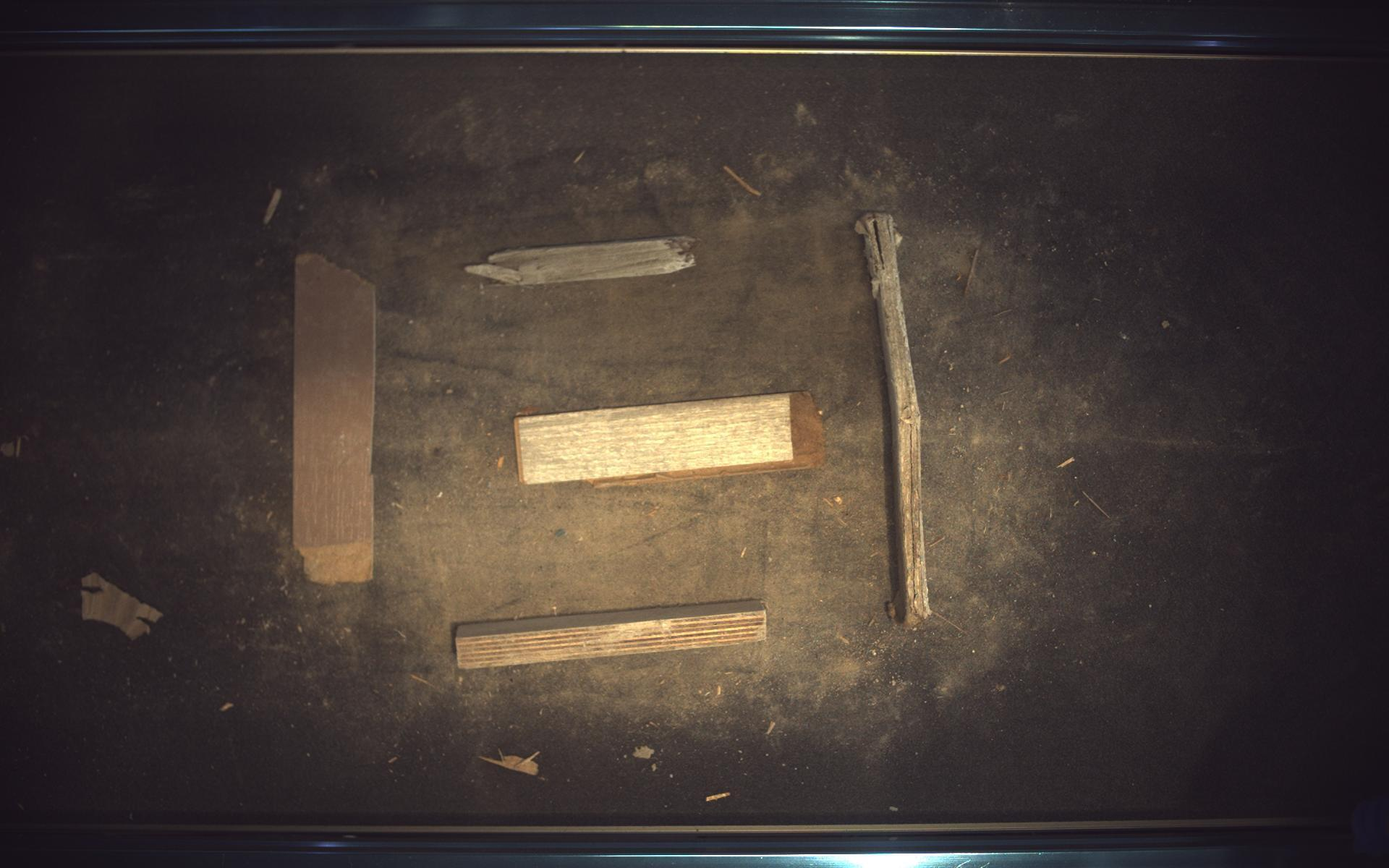wood: (857, 212, 933, 627), (514, 392, 826, 487), (292, 253, 375, 585), (454, 600, 768, 670), (464, 235, 696, 285), (81, 574, 161, 640)
